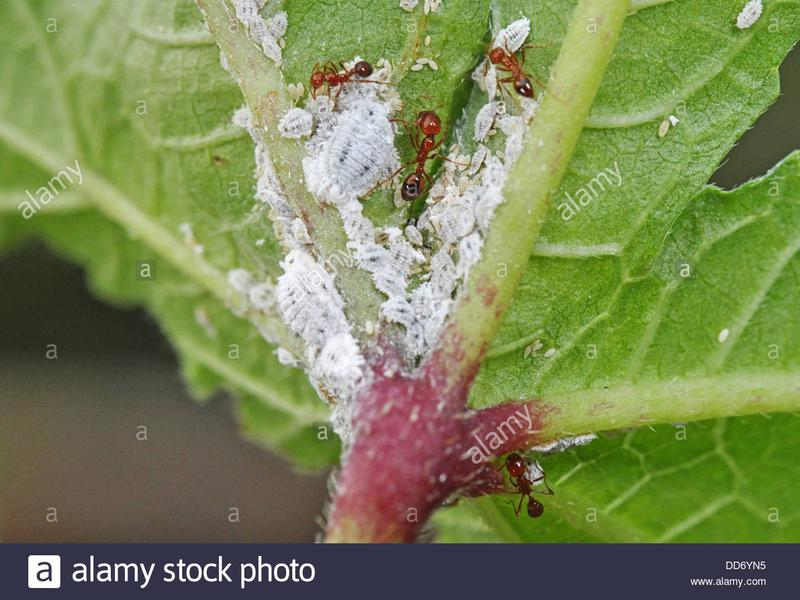Mealy_bug: (261, 34, 543, 371)
